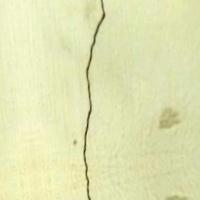crack: (63, 0, 123, 199)
